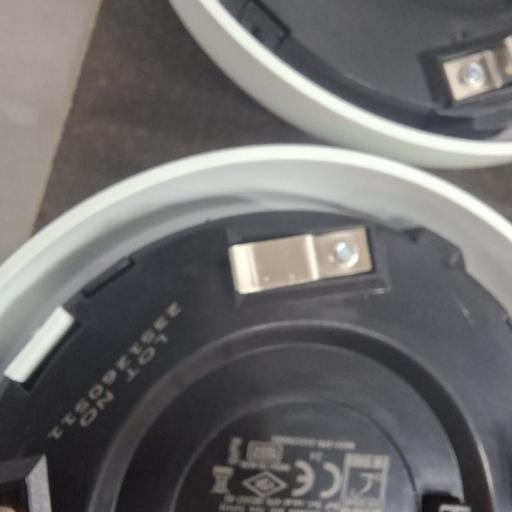yaysiz: (227, 227, 374, 296)
